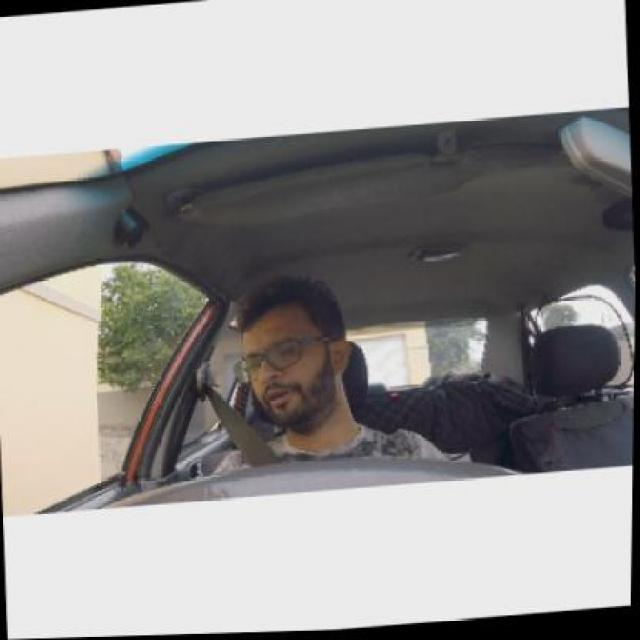drowsy: (234, 282, 350, 434)
